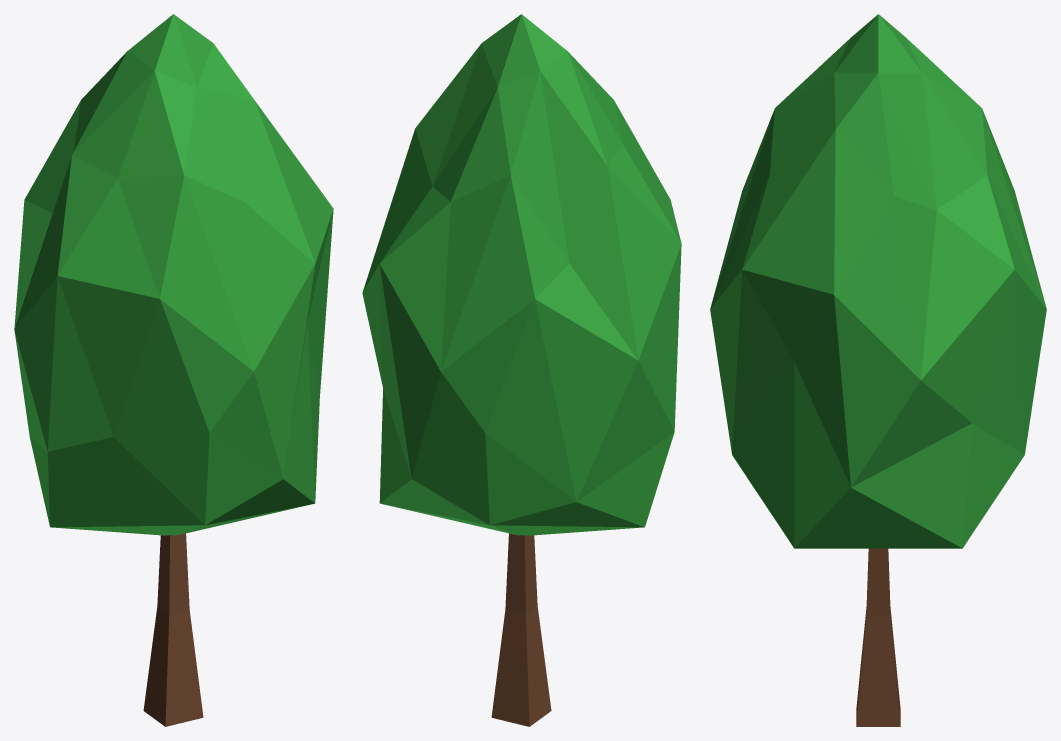
Rendered from Tree_40_Green.fbx.
The picture shows the model from 3 angles, left to right: view 1: azimuth 30°, elevation 25°; view 2: azimuth 150°, elevation 25°; view 3: azimuth 270°, elevation 25°; orthographic projection.
Visible parts, largest first — view 1: Tree_40_Green_Part_1, Tree_40_Green_Part_2; view 2: Tree_40_Green_Part_1, Tree_40_Green_Part_2; view 3: Tree_40_Green_Part_1, Tree_40_Green_Part_2.
Part boxes in pixels (x1,y1,x2,y2): Tree_40_Green_Part_1: [14, 14, 333, 535]; Tree_40_Green_Part_2: [143, 533, 203, 726]; Tree_40_Green_Part_1: [362, 14, 681, 535]; Tree_40_Green_Part_2: [491, 533, 551, 726]; Tree_40_Green_Part_1: [710, 14, 1046, 548]; Tree_40_Green_Part_2: [856, 548, 900, 726].
Bounding box in the file's own units: 331 × 798 × 346.
